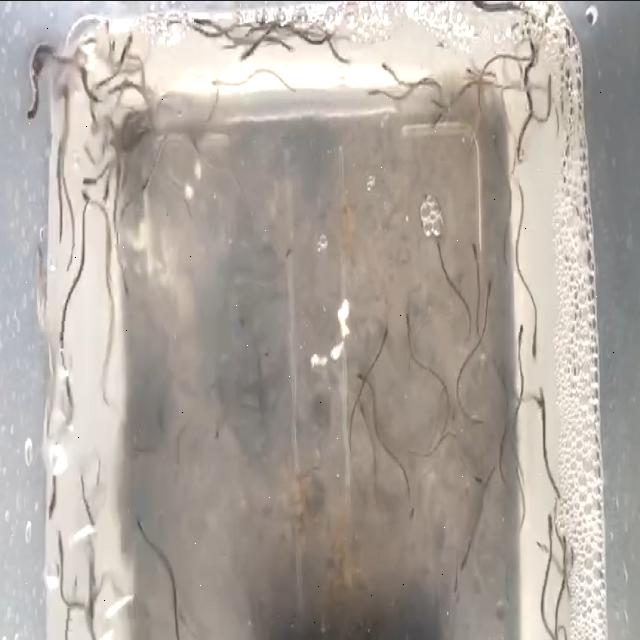inactive_glass_eel: (353, 80, 388, 112), (46, 530, 68, 576), (22, 88, 44, 132), (433, 216, 451, 264), (464, 451, 484, 491), (422, 104, 446, 134), (111, 32, 135, 59), (74, 55, 94, 87), (396, 302, 414, 336), (129, 502, 147, 534), (482, 272, 498, 308), (512, 324, 530, 356), (352, 366, 374, 392), (454, 544, 476, 570), (560, 530, 574, 568), (254, 343, 276, 367), (48, 487, 61, 527), (208, 75, 226, 102), (79, 188, 95, 218), (353, 398, 369, 427), (512, 125, 526, 158), (280, 235, 292, 272), (378, 61, 396, 85), (82, 169, 98, 195), (540, 512, 556, 538), (469, 236, 482, 264), (372, 326, 388, 348), (528, 333, 540, 362), (242, 41, 256, 62)
